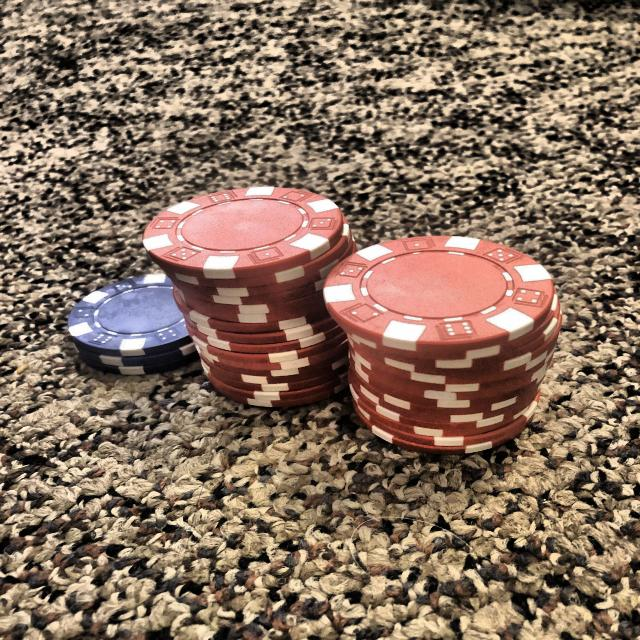Chip: (321, 233, 562, 455), (141, 185, 360, 409), (66, 272, 214, 377)
